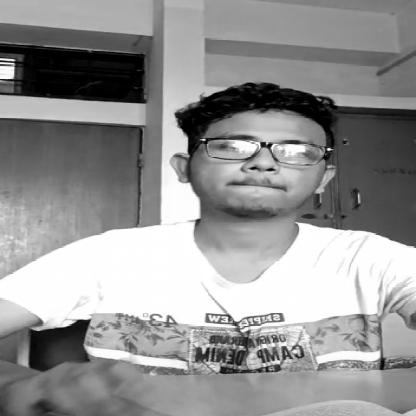Normal: (169, 86, 342, 221)
